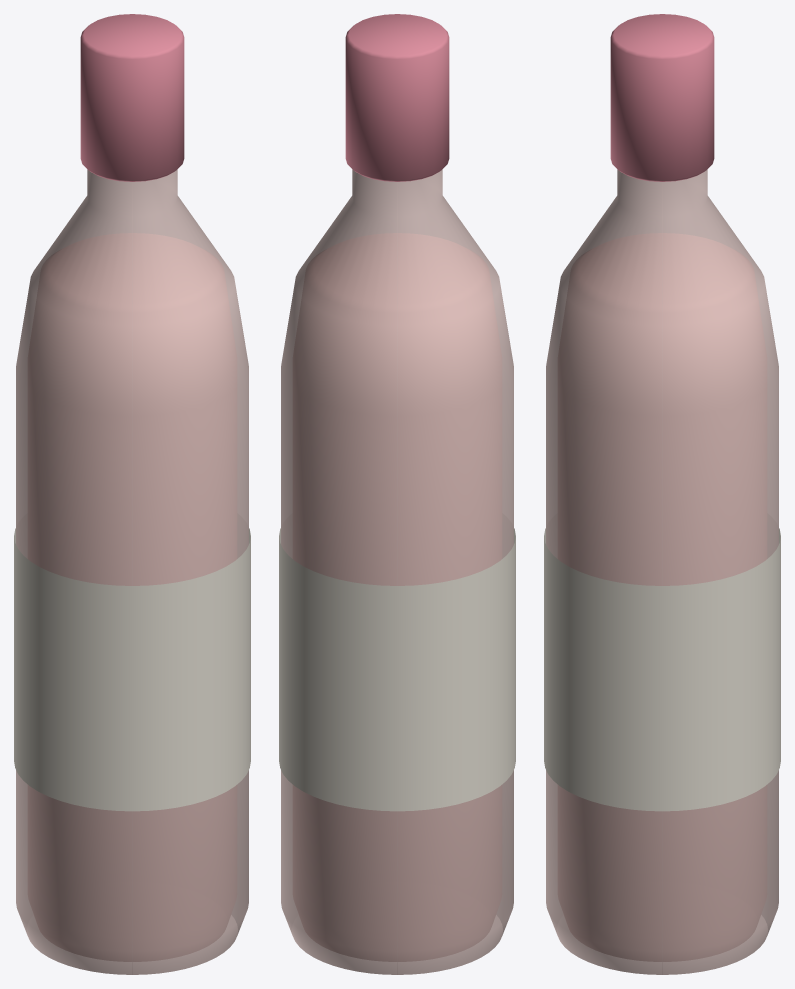
The model's file is vinho_rose.glb.
The picture shows the model from 3 angles, left to right: view 1: azimuth 30°, elevation 25°; view 2: azimuth 150°, elevation 25°; view 3: azimuth 270°, elevation 25°; orthographic projection.
Visible parts, largest first — view 1: vinho_rose; view 2: vinho_rose; view 3: vinho_rose.
Boxes of the visible parts, x1,y1,x2,y2 form: vinho_rose: (14, 14, 250, 974); vinho_rose: (279, 14, 515, 974); vinho_rose: (544, 14, 780, 974).
Bounding box in the file's own units: 0.0762 × 0.318 × 0.0762.
